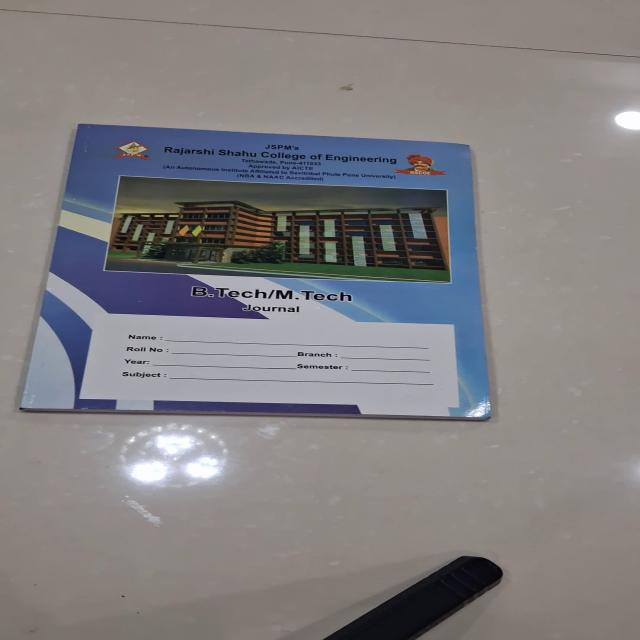paper: (18, 123, 492, 419)
